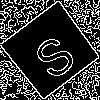S: (25, 25, 80, 83)
